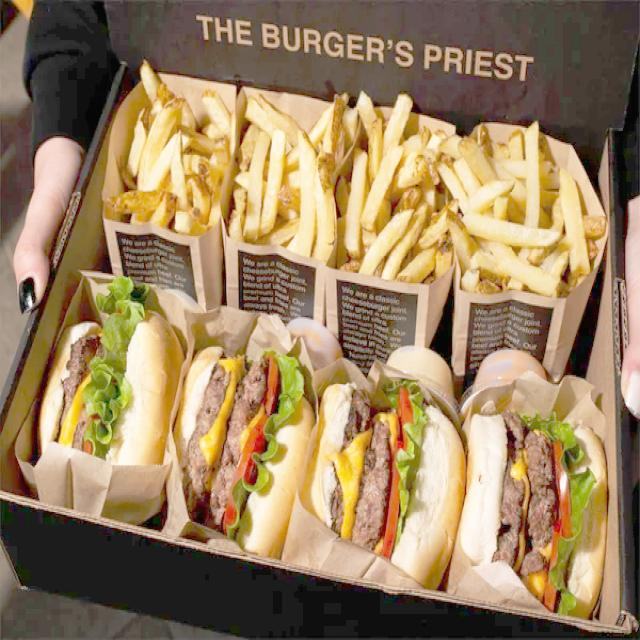burger: (313, 377, 464, 592), (462, 406, 606, 617), (177, 341, 313, 559), (41, 284, 183, 476)
french fries: (444, 121, 601, 296), (341, 94, 457, 288), (111, 61, 231, 230), (235, 97, 346, 257)
